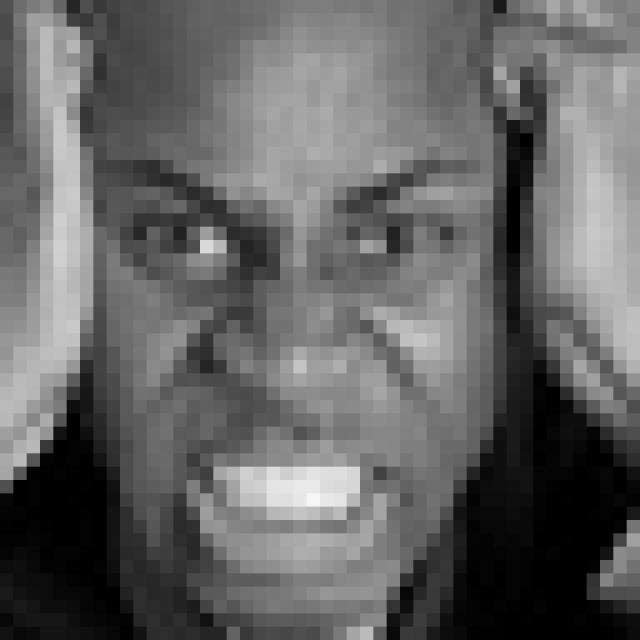angry: (102, 147, 489, 583)
